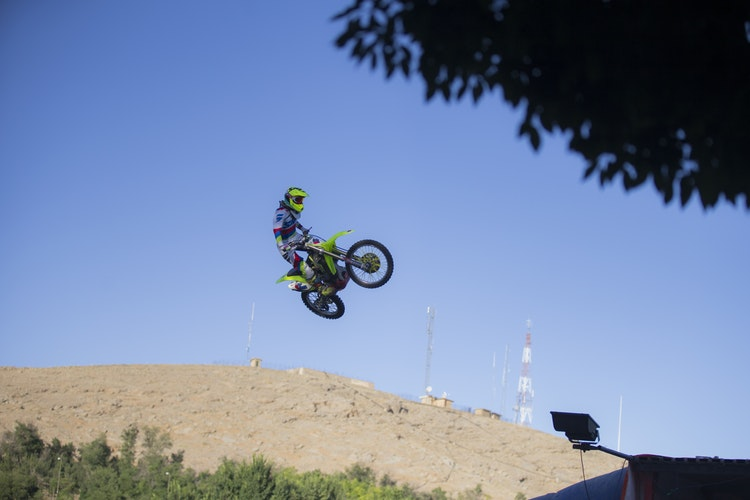helmet: (284, 189, 308, 213)
